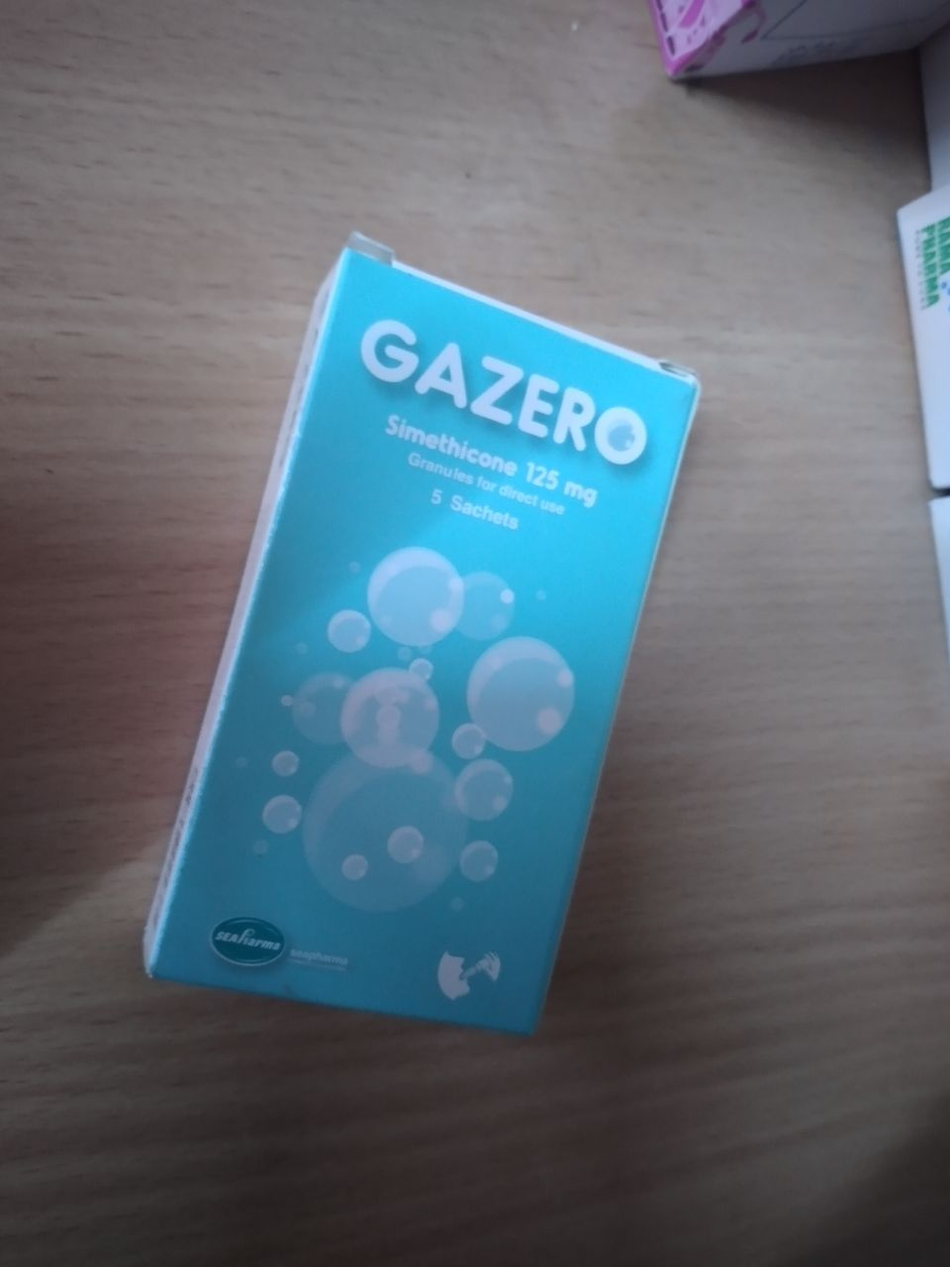Medicine: (122, 221, 703, 1066)
